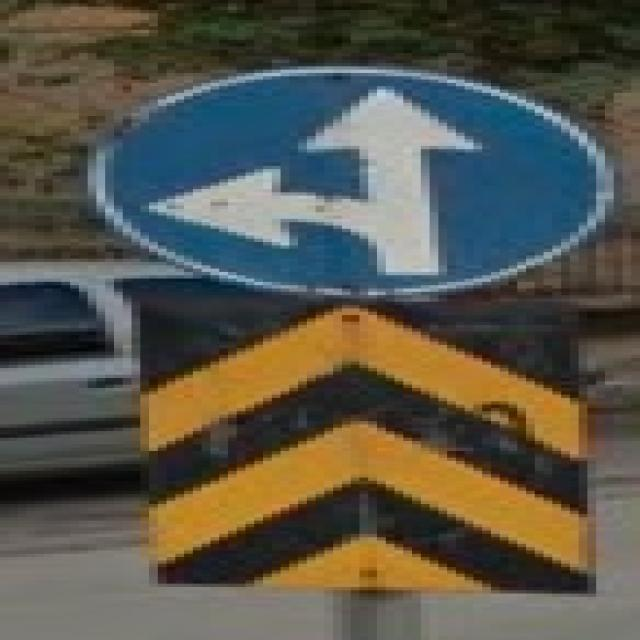Straight or Left: (93, 69, 610, 298)
